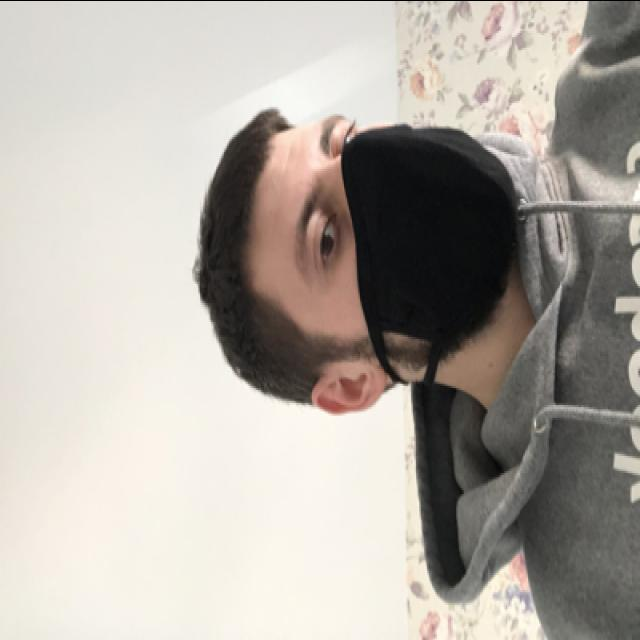with_mask: (286, 112, 522, 346)
